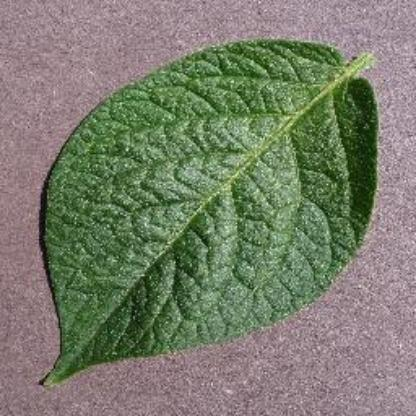Healthy-plant: (38, 32, 384, 395)
